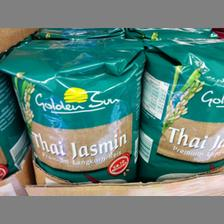Reis: (0, 38, 146, 182), (139, 38, 223, 178)
